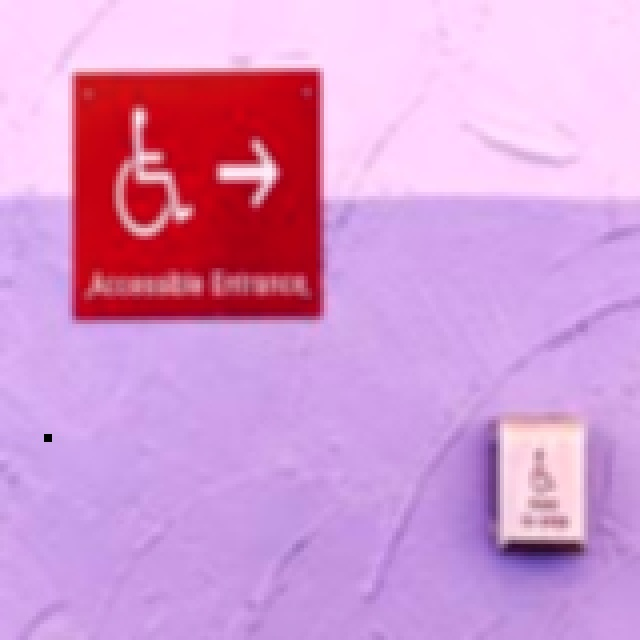ISA: (114, 106, 192, 237), (527, 448, 554, 493)
